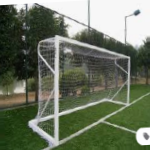goals: (29, 34, 132, 144)
